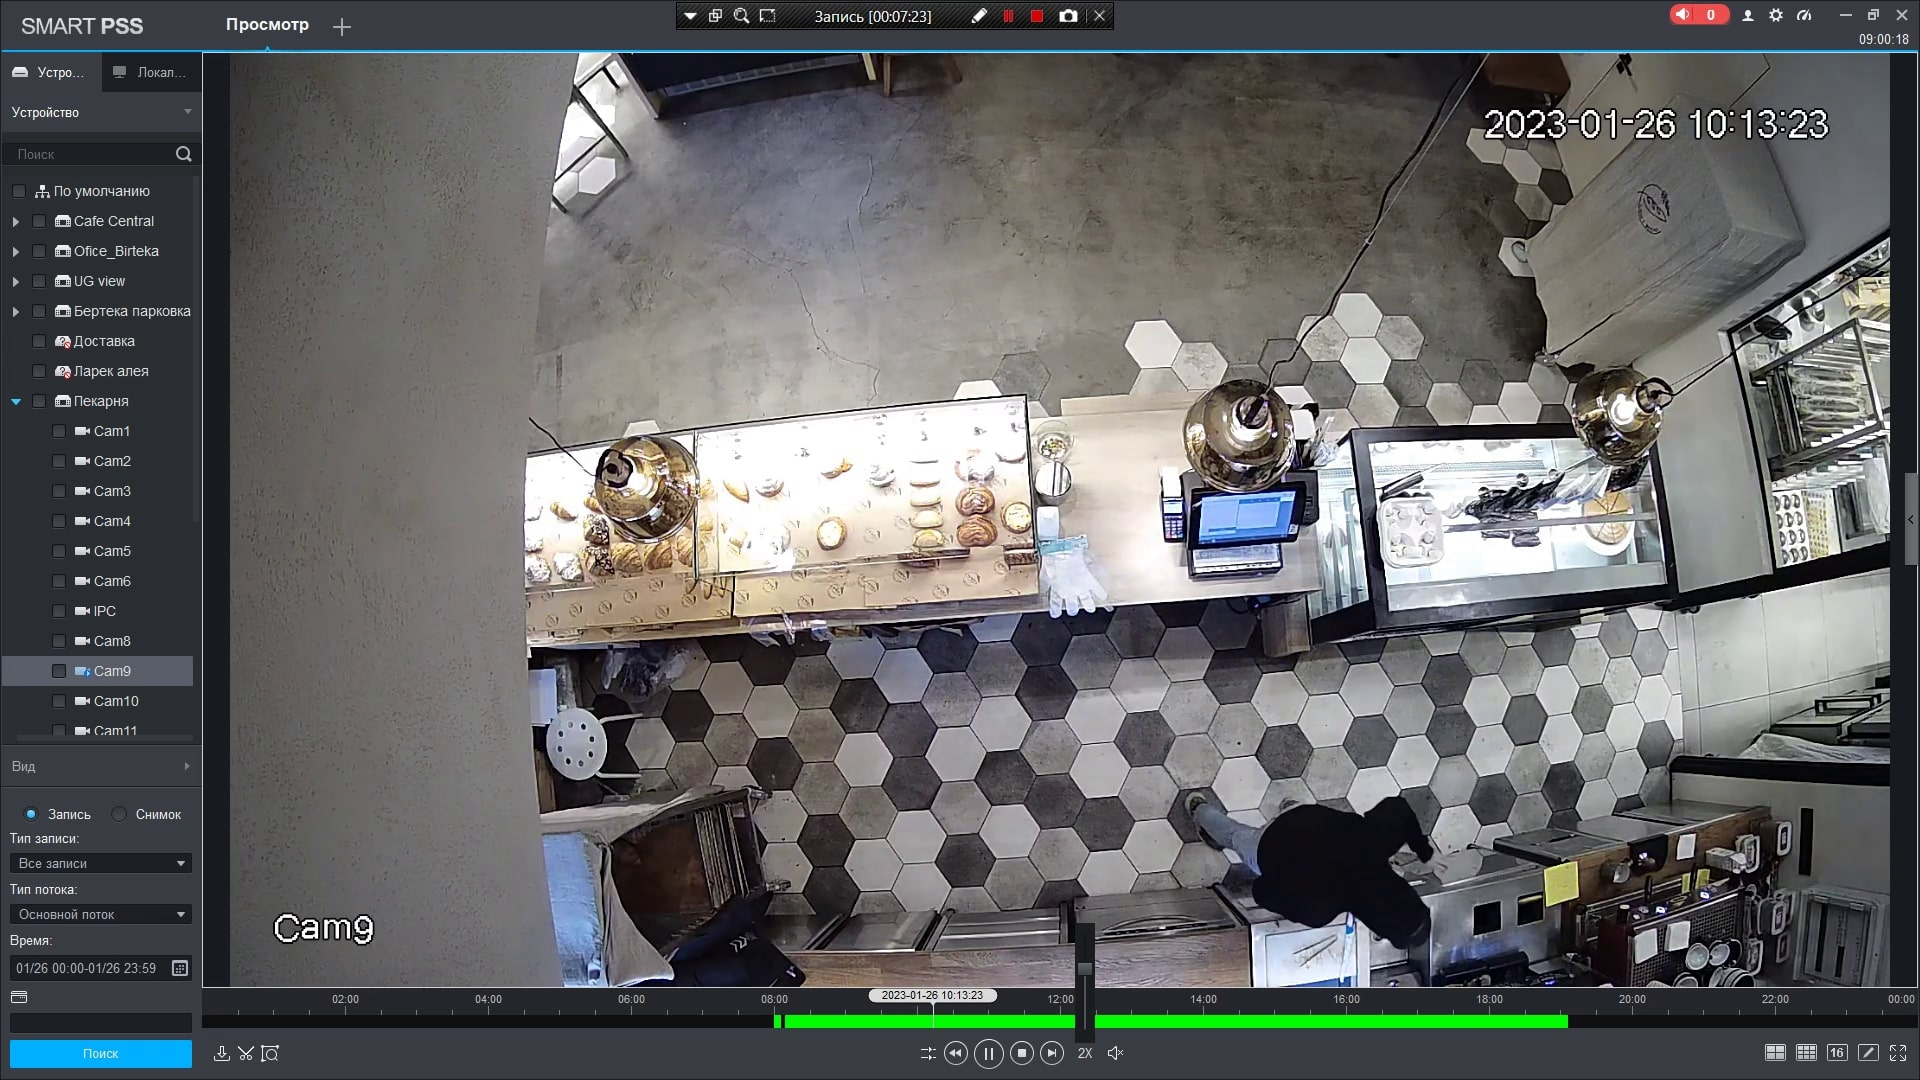barcounter: (544, 421, 1690, 641)
person: (1181, 765, 1427, 926)
